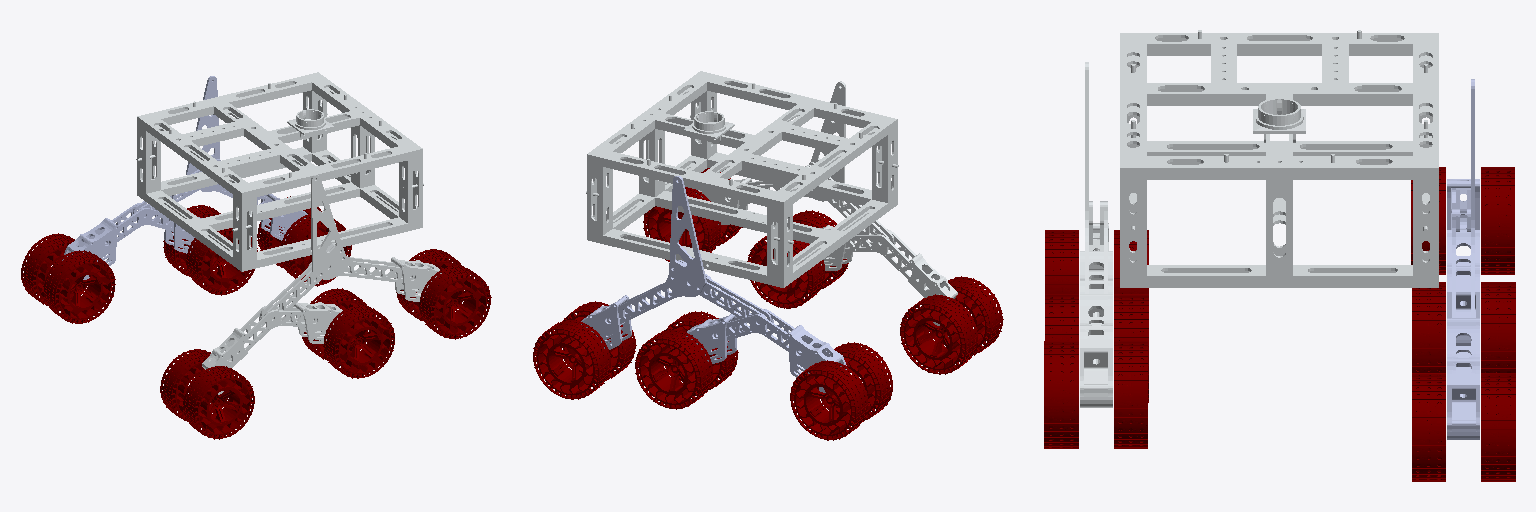
robot.urdf — Assem1:
<?xml version="1.0" encoding="utf-8"?>
<!-- This URDF was automatically created by SolidWorks to URDF Exporter! Originally created by [author] ([email redacted]) 
     Commit Version: 1.6.0-1-g15f4949  Build Version: 1.6.7594.29634
     For more information, please see http://wiki.ros.org/sw_urdf_exporter -->
<robot
  name="Assem1">
  <link
    name="base_link">
    <inertial>
      <origin
        xyz="-7.68865880621931E-05 -3.75493524634086E-06 0.59558344879391"
        rpy="0 0 0" />
      <mass
        value="12.7039342899442" />
      <inertia
        ixx="0.692252467134116"
        ixy="-5.634514086573E-09"
        ixz="0.0100575847822611"
        iyy="0.743299764038895"
        iyz="8.67410156410545E-08"
        izz="1.15934417655829" />
    </inertial>
    <visual>
      <origin
        xyz="0 0 0"
        rpy="0 0 0" />
      <geometry>
        <mesh
          filename="package://Assem1/meshes/base_link.STL" />
      </geometry>
      <material
        name="">
        <color
          rgba="0.898039215686275 0.917647058823529 0.929411764705882 1" />
      </material>
    </visual>
    <collision>
      <origin
        xyz="0 0 0"
        rpy="0 0 0" />
      <geometry>
        <mesh
          filename="package://Assem1/meshes/base_link.STL" />
      </geometry>
    </collision>
  </link>
  <link
    name="front_right_sus">
    <inertial>
      <origin
        xyz="0.142333238888885 -0.0332393379687545 -0.0457728307908625"
        rpy="0 0 0" />
      <mass
        value="1.99138252091391" />
      <inertia
        ixx="0.0104329700705996"
        ixy="2.59153674157235E-08"
        ixz="0.00743115678124504"
        iyy="0.0272376570295496"
        iyz="4.62892879995009E-09"
        izz="0.0168956251145261" />
    </inertial>
    <visual>
      <origin
        xyz="0 0 0"
        rpy="0 0 0" />
      <geometry>
        <mesh
          filename="package://Assem1/meshes/front_right_sus.STL" />
      </geometry>
      <material
        name="">
        <color
          rgba="0.898039215686275 0.917647058823529 0.929411764705882 1" />
      </material>
    </visual>
    <collision>
      <origin
        xyz="0 0 0"
        rpy="0 0 0" />
      <geometry>
        <mesh
          filename="package://Assem1/meshes/front_right_sus.STL" />
      </geometry>
    </collision>
  </link>
  <joint
    name="front_right_sus_joint"
    type="revolute">
    <origin
      xyz="-0.05 -0.31387 0.44008"
      rpy="0 0 0" />
    <parent
      link="base_link" />
    <child
      link="front_right_sus" />
    <axis
      xyz="0 1 0" />
    <limit
      lower="-1.57"
      upper="1.57"
      effort="10"
      velocity="10" />
  </joint>
  <link
    name="front_right_wheel">
    <inertial>
      <origin
        xyz="-9.07576124475895E-07 7.84833675548935E-07 -0.0651994919909083"
        rpy="0 0 0" />
      <mass
        value="1.34905188053118" />
      <inertia
        ixx="0.00419775864856339"
        ixy="-1.72864770911778E-08"
        ixz="-2.01407121827911E-08"
        iyy="0.00419775484691054"
        iyz="-2.33429746451356E-08"
        izz="0.00747592275269736" />
    </inertial>
    <visual>
      <origin
        xyz="0 0 0"
        rpy="0 0 0" />
      <geometry>
        <mesh
          filename="package://Assem1/meshes/front_right_wheel.STL" />
      </geometry>
      <material
        name="">
        <color
          rgba="0.501960784313725 0 0 1" />
      </material>
    </visual>
    <collision>
      <origin
        xyz="0 0 0"
        rpy="0 0 0" />
      <geometry>
        <mesh
          filename="package://Assem1/meshes/front_right_wheel.STL" />
      </geometry>
    </collision>
  </link>
  <joint
    name="front_right_wheel_joint"
    type="continuous">
    <origin
      xyz="0.39302 -0.09583 -0.18584"
      rpy="1.5708 1.3812 0" />
    <parent
      link="front_right_sus" />
    <child
      link="front_right_wheel" />
    <axis
      xyz="0 0 1" />
  </joint>
  <link
    name="front_left_sus">
    <inertial>
      <origin
        xyz="0.148919282802482 0.0284323647117627 -0.11049184370115"
        rpy="0 0 0" />
      <mass
        value="1.42403444913832" />
      <inertia
        ixx="0.00748902583426413"
        ixy="2.62260571853189E-08"
        ixz="0.00466775557356906"
        iyy="0.0157904283629426"
        iyz="-2.33172257628098E-09"
        izz="0.00837844652806043" />
    </inertial>
    <visual>
      <origin
        xyz="0 0 0"
        rpy="0 0 0" />
      <geometry>
        <mesh
          filename="package://Assem1/meshes/front_left_sus.STL" />
      </geometry>
      <material
        name="">
        <color
          rgba="0.792156862745098 0.819607843137255 0.933333333333333 1" />
      </material>
    </visual>
    <collision>
      <origin
        xyz="0 0 0"
        rpy="0 0 0" />
      <geometry>
        <mesh
          filename="package://Assem1/meshes/front_left_sus.STL" />
      </geometry>
    </collision>
  </link>
  <joint
    name="front_left_sus_joint"
    type="revolute">
    <origin
      xyz="-0.05 0.31487 0.44008"
      rpy="0 0 0" />
    <parent
      link="base_link" />
    <child
      link="front_left_sus" />
    <axis
      xyz="0 1 0" />
    <limit
      lower="-1.57"
      upper="1.57"
      effort="0"
      velocity="0" />
  </joint>
  <link
    name="front_left_wheel">
    <inertial>
      <origin
        xyz="5.38160204399674E-07 -1.07256217252161E-06 0.0651995080102196"
        rpy="0 0 0" />
      <mass
        value="1.3490518805646" />
      <inertia
        ixx="0.00419774586867766"
        ixy="-1.35675834907201E-08"
        ixz="2.75407258833235E-08"
        iyy="0.00419776762691035"
        iyz="1.38585693251591E-08"
        izz="0.00747592275281224" />
    </inertial>
    <visual>
      <origin
        xyz="0 0 0"
        rpy="0 0 0" />
      <geometry>
        <mesh
          filename="package://Assem1/meshes/front_left_wheel.STL" />
      </geometry>
      <material
        name="">
        <color
          rgba="0.501960784313725 0 0 1" />
      </material>
    </visual>
    <collision>
      <origin
        xyz="0 0 0"
        rpy="0 0 0" />
      <geometry>
        <mesh
          filename="package://Assem1/meshes/front_left_wheel.STL" />
      </geometry>
    </collision>
  </link>
  <joint
    name="front_left_wheel_joint"
    type="continuous">
    <origin
      xyz="0.33056 0.095826 -0.28236"
      rpy="1.5708 -0.93679 0" />
    <parent
      link="front_left_sus" />
    <child
      link="front_left_wheel" />
    <axis
      xyz="0 0 1" />
  </joint>
  <link
    name="rear_left_sus">
    <inertial>
      <origin
        xyz="-0.00338980046151843 -0.0222499999732818 -0.0826610515840032"
        rpy="0 0 0" />
      <mass
        value="1.90548278572856" />
      <inertia
        ixx="0.00285673050955862"
        ixy="5.2445431776198E-08"
        ixz="0.000378498286107579"
        iyy="0.0147823715837697"
        iyz="-2.15176326850431E-09"
        izz="0.0120709778343263" />
    </inertial>
    <visual>
      <origin
        xyz="0 0 0"
        rpy="0 0 0" />
      <geometry>
        <mesh
          filename="package://Assem1/meshes/rear_left_sus.STL" />
      </geometry>
      <material
        name="">
        <color
          rgba="0.792156862745098 0.819607843137255 0.933333333333333 1" />
      </material>
    </visual>
    <collision>
      <origin
        xyz="0 0 0"
        rpy="0 0 0" />
      <geometry>
        <mesh
          filename="package://Assem1/meshes/rear_left_sus.STL" />
      </geometry>
    </collision>
  </link>
  <joint
    name="rear_left_sus_joint"
    type="revolute">
    <origin
      xyz="-0.25968 0.3675 0.37349"
      rpy="0 0 0" />
    <parent
      link="base_link" />
    <child
      link="rear_left_sus" />
    <axis
      xyz="0 1 0" />
    <limit
      lower="-1.57"
      upper="1.57"
      effort="10"
      velocity="10" />
  </joint>
  <link
    name="mid_left_wheel">
    <inertial>
      <origin
        xyz="5.37706759340395E-07 -1.07234279481117E-06 0.0651995080475841"
        rpy="0 0 0" />
      <mass
        value="1.34905188034585" />
      <inertia
        ixx="0.00419774586722093"
        ixy="-1.35699477496823E-08"
        ixz="2.7541119717338E-08"
        iyy="0.00419776762765318"
        iyz="1.38582029334965E-08"
        izz="0.00747592275210146" />
    </inertial>
    <visual>
      <origin
        xyz="0 0 0"
        rpy="0 0 0" />
      <geometry>
        <mesh
          filename="package://Assem1/meshes/mid_left_wheel.STL" />
      </geometry>
      <material
        name="">
        <color
          rgba="0.501960784313725 0 0 1" />
      </material>
    </visual>
    <collision>
      <origin
        xyz="0 0 0"
        rpy="0 0 0" />
      <geometry>
        <mesh
          filename="package://Assem1/meshes/mid_left_wheel.STL" />
      </geometry>
    </collision>
  </link>
  <joint
    name="mid_left_wheel_joint"
    type="fixed">
    <origin
      xyz="0.229332466177956 0.0431974999999455 -0.171404298116053"
      rpy="1.5707963267949 -1.2217472998078 0" />
    <parent
      link="rear_left_sus" />
    <child
      link="mid_left_wheel" />
    <axis
      xyz="0 0 0" />
  </joint>
  <link
    name="rear_left_wheel">
    <inertial>
      <origin
        xyz="-9.07120789928051E-07 7.85028340666294E-07 -0.0651994919570328"
        rpy="0 0 0" />
      <mass
        value="1.34905188036257" />
      <inertia
        ixx="0.00419775863940226"
        ixy="-1.72908144036423E-08"
        ixz="-2.01435567929672E-08"
        iyy="0.00419775484550445"
        iyz="-2.33400703609212E-08"
        izz="0.00747592274139143" />
    </inertial>
    <visual>
      <origin
        xyz="0 0 0"
        rpy="0 0 0" />
      <geometry>
        <mesh
          filename="package://Assem1/meshes/rear_left_wheel.STL" />
      </geometry>
      <material
        name="">
        <color
          rgba="0.501960784313725 0 0 1" />
      </material>
    </visual>
    <collision>
      <origin
        xyz="0 0 0"
        rpy="0 0 0" />
      <geometry>
        <mesh
          filename="package://Assem1/meshes/rear_left_wheel.STL" />
      </geometry>
    </collision>
  </link>
  <joint
    name="rear_left_wheel_joint"
    type="fixed">
    <origin
      xyz="-0.242596866871342 0.0427014999999973 -0.152051220472248"
      rpy="-1.5707963267949 0.270959167228712 0" />
    <parent
      link="rear_left_sus" />
    <child
      link="rear_left_wheel" />
    <axis
      xyz="0 0 0" />
  </joint>
  <link
    name="rear_right_sus">
    <inertial>
      <origin
        xyz="0.055862259526879 0.0223575541191811 -0.0691194697402766"
        rpy="0 0 0" />
      <mass
        value="1.52083982841864" />
      <inertia
        ixx="0.00230237813601394"
        ixy="1.93749743870053E-08"
        ixz="-0.00116373865888979"
        iyy="0.013281252429521"
        iyz="1.02280105149856E-08"
        izz="0.0111281698246394" />
    </inertial>
    <visual>
      <origin
        xyz="0 0 0"
        rpy="0 0 0" />
      <geometry>
        <mesh
          filename="package://Assem1/meshes/rear_right_sus.STL" />
      </geometry>
      <material
        name="">
        <color
          rgba="0.898039215686275 0.917647058823529 0.929411764705882 1" />
      </material>
    </visual>
    <collision>
      <origin
        xyz="0 0 0"
        rpy="0 0 0" />
      <geometry>
        <mesh
          filename="package://Assem1/meshes/rear_right_sus.STL" />
      </geometry>
    </collision>
  </link>
  <joint
    name="rear_right_sus_joint"
    type="revolute">
    <origin
      xyz="-0.23489 -0.3665 0.32086"
      rpy="0 0 0" />
    <parent
      link="base_link" />
    <child
      link="rear_right_sus" />
    <axis
      xyz="0 1 0" />
    <limit
      lower="-1.57"
      upper="1.57"
      effort="10"
      velocity="10" />
  </joint>
  <link
    name="mid_right_wheel">
    <inertial>
      <origin
        xyz="-9.09282534877764E-07 7.84364867306708E-07 -0.065199491890953"
        rpy="0 0 0" />
      <mass
        value="1.34905188071954" />
      <inertia
        ixx="0.00419775865036483"
        ixy="-1.72887491037797E-08"
        ixz="-2.01419243944547E-08"
        iyy="0.00419775484577203"
        iyz="-2.33428948075588E-08"
        izz="0.00747592275337243" />
    </inertial>
    <visual>
      <origin
        xyz="0 0 0"
        rpy="0 0 0" />
      <geometry>
        <mesh
          filename="package://Assem1/meshes/mid_right_wheel.STL" />
      </geometry>
      <material
        name="">
        <color
          rgba="0.501960784313725 0 0 1" />
      </material>
    </visual>
    <collision>
      <origin
        xyz="0 0 0"
        rpy="0 0 0" />
      <geometry>
        <mesh
          filename="package://Assem1/meshes/mid_right_wheel.STL" />
      </geometry>
    </collision>
  </link>
  <joint
    name="mid_right_wheel_joint"
    type="fixed">
    <origin
      xyz="0.261033664890981 -0.0427014999490802 -0.117619041186467"
      rpy="-1.5707963267949 0.435367594200088 3.14159265358979" />
    <parent
      link="rear_right_sus" />
    <child
      link="mid_right_wheel" />
    <axis
      xyz="0 0 0" />
  </joint>
  <link
    name="rear_right_wheel">
    <inertial>
      <origin
        xyz="5.37653681742523E-07 -1.07261141804593E-06 0.0651995080597733"
        rpy="0 0 0" />
      <mass
        value="1.34905188070646" />
      <inertia
        ixx="0.00419774586811897"
        ixy="-1.35701868448843E-08"
        ixz="2.75416472095129E-08"
        iyy="0.00419776762797299"
        iyz="1.38580268520483E-08"
        izz="0.00747592275332751" />
    </inertial>
    <visual>
      <origin
        xyz="0 0 0"
        rpy="0 0 0" />
      <geometry>
        <mesh
          filename="package://Assem1/meshes/rear_right_wheel.STL" />
      </geometry>
      <material
        name="">
        <color
          rgba="0.501960784313725 0 0 1" />
      </material>
    </visual>
    <collision>
      <origin
        xyz="0 0 0"
        rpy="0 0 0" />
      <geometry>
        <mesh
          filename="package://Assem1/meshes/rear_right_wheel.STL" />
      </geometry>
    </collision>
  </link>
  <joint
    name="rear_right_wheel_joint"
    type="fixed">
    <origin
      xyz="-0.203870483078154 -0.0426974999999998 -0.201021490358088"
      rpy="-1.57079632679489 0.830365243292088 0" />
    <parent
      link="rear_right_sus" />
    <child
      link="rear_right_wheel" />
    <axis
      xyz="0 0 0" />
  </joint>
</robot>

--- Render facts (derived) ---
The picture shows the robot from 3 angles, left to right: view 1: azimuth 30°, elevation 25°; view 2: azimuth 150°, elevation 25°; view 3: azimuth 270°, elevation 25°; orthographic projection.
Robot: Assem1 — 11 links, 10 joints (4 revolute, 2 continuous, 4 fixed); root link base_link; default pose: every joint at zero.
Links seen in each view (by area): view 1: base_link, rear_left_wheel, rear_right_wheel, front_right_sus, front_right_wheel, mid_right_wheel, rear_right_sus, mid_left_wheel, rear_left_sus, front_left_sus, front_left_wheel; view 2: base_link, rear_left_wheel, rear_right_wheel, front_left_sus, front_left_wheel, mid_left_wheel, rear_left_sus, rear_right_sus, mid_right_wheel, front_right_wheel, front_right_sus; view 3: base_link, front_left_wheel, front_right_wheel, mid_left_wheel, front_left_sus, front_right_sus, rear_left_wheel, mid_right_wheel, rear_left_sus, rear_right_wheel, rear_right_sus.
Boxes of the visible links, x1,y1,x2,y2 form: base_link: [136, 72, 423, 271]; rear_left_wheel: [21, 233, 115, 323]; rear_right_wheel: [160, 349, 254, 439]; front_right_sus: [260, 174, 441, 319]; front_right_wheel: [396, 249, 491, 339]; mid_right_wheel: [302, 288, 394, 378]; rear_right_sus: [202, 302, 342, 403]; mid_left_wheel: [163, 205, 257, 295]; rear_left_sus: [62, 203, 201, 279]; front_left_sus: [133, 76, 307, 240]; front_left_wheel: [257, 196, 351, 286]; base_link: [586, 71, 898, 287]; rear_left_wheel: [790, 342, 892, 440]; rear_right_wheel: [900, 276, 1003, 374]; front_left_sus: [581, 176, 771, 349]; front_left_wheel: [533, 301, 636, 399]; mid_left_wheel: [635, 311, 738, 409]; rear_left_sus: [686, 309, 846, 392]; rear_right_sus: [820, 225, 957, 336]; mid_right_wheel: [747, 210, 848, 308]; front_right_wheel: [643, 168, 742, 261]; front_right_sus: [696, 81, 893, 243]; base_link: [1120, 30, 1438, 287]; front_left_wheel: [1412, 373, 1515, 481]; front_right_wheel: [1044, 341, 1147, 448]; mid_left_wheel: [1412, 282, 1515, 380]; front_left_sus: [1447, 79, 1479, 439]; front_right_sus: [1080, 62, 1112, 407]; rear_left_wheel: [1411, 167, 1514, 274]; mid_right_wheel: [1045, 294, 1148, 402]; rear_left_sus: [1447, 179, 1479, 345]; rear_right_wheel: [1045, 230, 1148, 293]; rear_right_sus: [1080, 223, 1112, 324].
Bounding box of the posed robot: 1.05 × 0.8854 × 0.724 m (x, y, z).
11 mesh visuals loaded from 11 distinct referenced files (11 binary STL).
